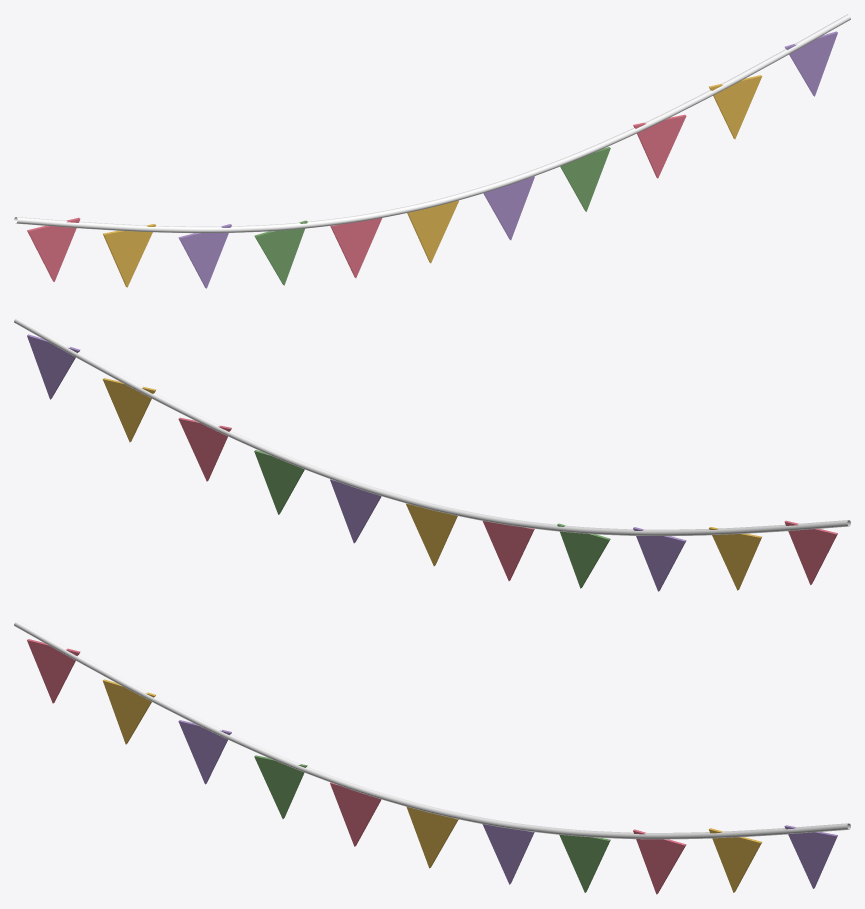
Rendered from ui-bunting.glb.
3 views of the same model, one above another, from view 1: azimuth 30°, elevation 25°; view 2: azimuth 150°, elevation 25°; view 3: azimuth 330°, elevation 25° (orthographic).
Parts seen in each view (by area): view 1: UI · bunting cord, UI · pennant 0, UI · pennant 8, UI · pennant 9, UI · pennant 1, UI · pennant 5, UI · pennant 4, UI · pennant 3, UI · pennant 10, UI · pennant 2, UI · pennant 6, UI · pennant 7; view 2: UI · bunting cord, UI · pennant 0, UI · pennant 8, UI · pennant 9, UI · pennant 1, UI · pennant 5, UI · pennant 4, UI · pennant 3, UI · pennant 10, UI · pennant 2, UI · pennant 6, UI · pennant 7; view 3: UI · bunting cord, UI · pennant 9, UI · pennant 10, UI · pennant 8, UI · pennant 0, UI · pennant 2, UI · pennant 3, UI · pennant 6, UI · pennant 7, UI · pennant 1, UI · pennant 5, UI · pennant 4.
Boxes of the visible parts, x1,y1,x2,y2 form: UI · bunting cord: (14, 14, 850, 233); UI · pennant 0: (27, 217, 80, 281); UI · pennant 8: (633, 114, 686, 178); UI · pennant 9: (709, 75, 762, 139); UI · pennant 1: (103, 224, 155, 287); UI · pennant 5: (407, 200, 458, 263); UI · pennant 4: (330, 218, 382, 277); UI · pennant 3: (254, 220, 307, 285); UI · pennant 10: (784, 31, 837, 96); UI · pennant 2: (178, 224, 231, 288); UI · pennant 6: (483, 176, 534, 240); UI · pennant 7: (560, 147, 610, 211); UI · bunting cord: (14, 317, 850, 536); UI · pennant 0: (784, 520, 837, 584); UI · pennant 8: (178, 417, 231, 481); UI · pennant 9: (102, 378, 155, 442); UI · pennant 1: (709, 527, 761, 590); UI · pennant 5: (406, 503, 457, 566); UI · pennant 4: (482, 521, 534, 580); UI · pennant 3: (557, 523, 610, 588); UI · pennant 10: (27, 334, 80, 399); UI · pennant 2: (633, 527, 686, 591); UI · pennant 6: (330, 479, 381, 543); UI · pennant 7: (254, 450, 304, 514); UI · bunting cord: (14, 620, 850, 839); UI · pennant 9: (708, 828, 761, 892); UI · pennant 10: (784, 825, 837, 888); UI · pennant 8: (633, 829, 686, 894); UI · pennant 0: (27, 639, 80, 703); UI · pennant 2: (178, 720, 231, 784); UI · pennant 3: (254, 755, 307, 818); UI · pennant 6: (482, 824, 534, 884); UI · pennant 7: (559, 834, 610, 892); UI · pennant 1: (102, 679, 155, 744); UI · pennant 5: (406, 806, 458, 868); UI · pennant 4: (330, 782, 381, 846).
Bounding box in the file's own units: 6.41 × 1.08 × 0.044.
